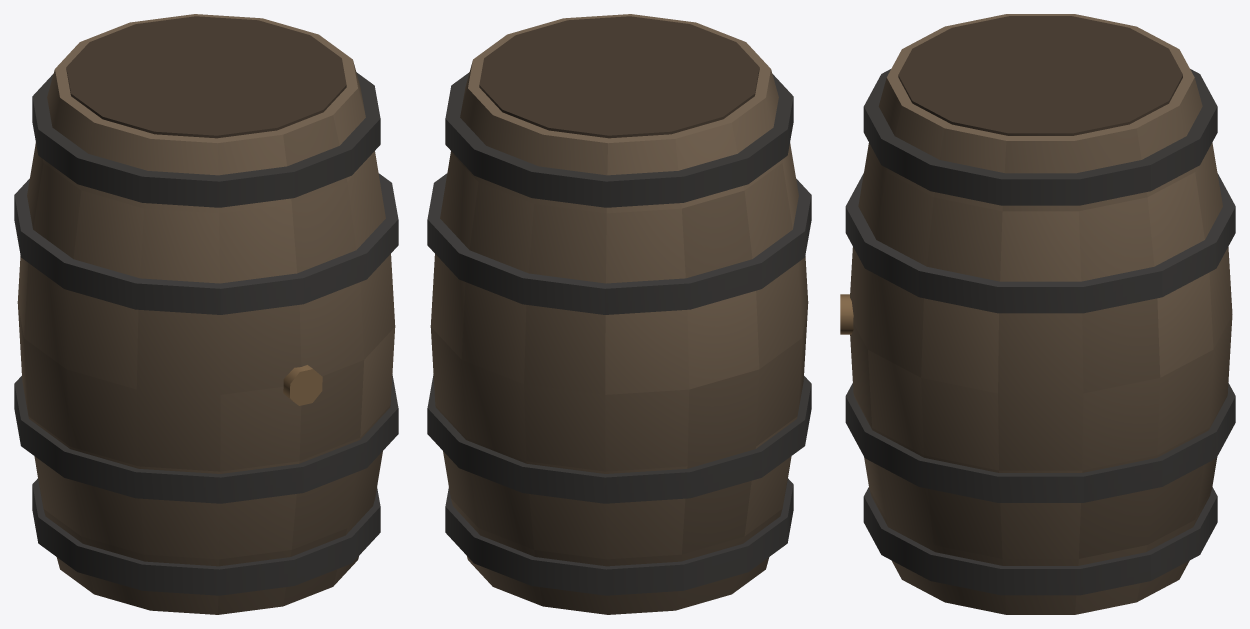
Rendered from barril.glb.
The picture shows the model from 3 angles, left to right: view 1: azimuth 30°, elevation 25°; view 2: azimuth 150°, elevation 25°; view 3: azimuth 270°, elevation 25°; orthographic projection.
Visible parts, largest first — view 1: Barril; view 2: Barril; view 3: Barril.
Boxes of the visible parts, bbox=[...] form: Barril: bbox=[14, 14, 398, 614]; Barril: bbox=[427, 14, 811, 614]; Barril: bbox=[840, 14, 1235, 614].
Size of what is drawn, in the model's own units: 0.6546 by 0.905 by 0.6807.
